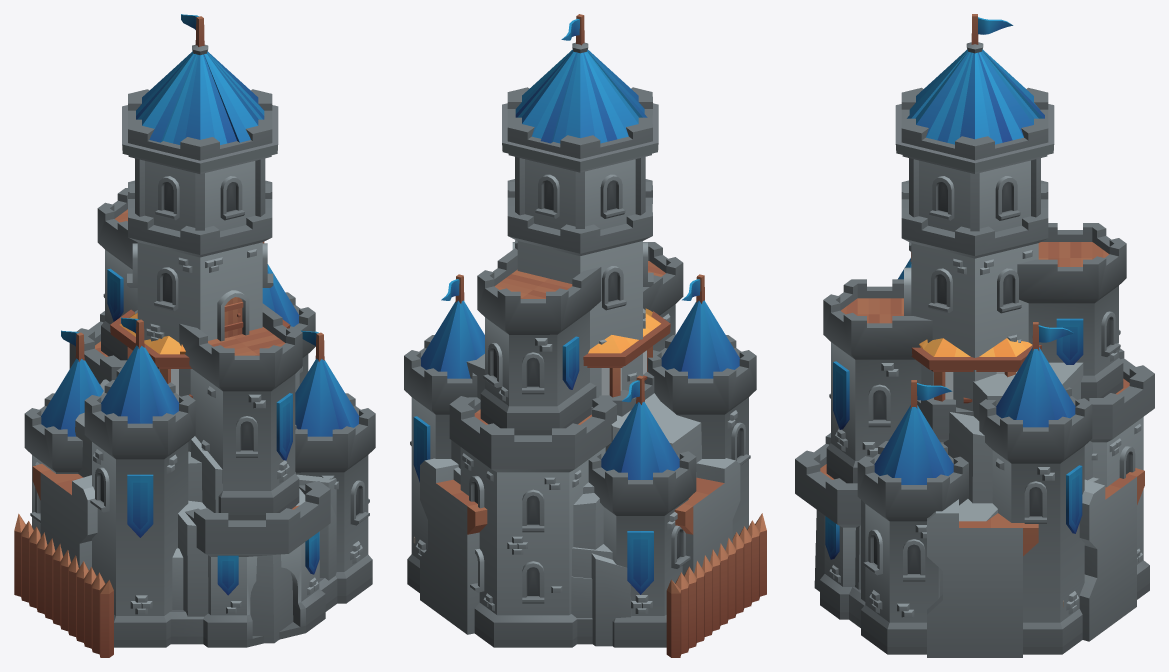
File: medieval.glb
The picture shows the model from 3 angles, left to right: view 1: azimuth 30°, elevation 25°; view 2: azimuth 150°, elevation 25°; view 3: azimuth 270°, elevation 25°; orthographic projection.
Visible parts, largest first — view 1: building_castle_blue, mountain_C, fence_wood_straight, wall_corner_A_outside, building_tower_A_top_yellow, mountain_A, wall_straight; view 2: building_castle_blue, wall_corner_A_outside, fence_wood_straight, mountain_C, building_tower_A_top_yellow, building_mine_yellow, mountain_B, mountain_A, building_tower_A_yellow, wall_straight; view 3: building_castle_blue, wall_straight, wall_corner_A_outside, mountain_B, building_tower_A_top_yellow, mountain_C, building_tower_A_yellow.
Part boxes in pixels (<box>): building_castle_blue: <box>24,14,375,647</box>; mountain_C: <box>75,379,336,643</box>; fence_wood_straight: <box>14,513,113,657</box>; wall_corner_A_outside: <box>32,464,92,567</box>; building_tower_A_top_yellow: <box>110,309,290,397</box>; mountain_A: <box>188,451,336,579</box>; wall_straight: <box>33,464,97,569</box>; building_castle_blue: <box>404,14,756,647</box>; wall_corner_A_outside: <box>420,458,740,634</box>; fence_wood_straight: <box>666,513,766,657</box>; mountain_C: <box>453,393,701,549</box>; building_tower_A_top_yellow: <box>583,308,670,397</box>; building_mine_yellow: <box>591,553,631,646</box>; mountain_B: <box>451,354,612,578</box>; mountain_A: <box>571,482,594,617</box>; building_tower_A_yellow: <box>591,372,654,416</box>; wall_straight: <box>675,458,731,511</box>; building_castle_blue: <box>795,14,1154,654</box>; wall_straight: <box>927,499,1038,657</box>; wall_corner_A_outside: <box>1079,468,1144,641</box>; mountain_B: <box>940,362,1092,596</box>; building_tower_A_top_yellow: <box>911,338,1041,403</box>; mountain_C: <box>814,477,1099,601</box>; building_tower_A_yellow: <box>917,397,973,443</box>.
Size of the model in its own units: 2.05 by 4.08 by 2.26.
1 material, 1 textured.
